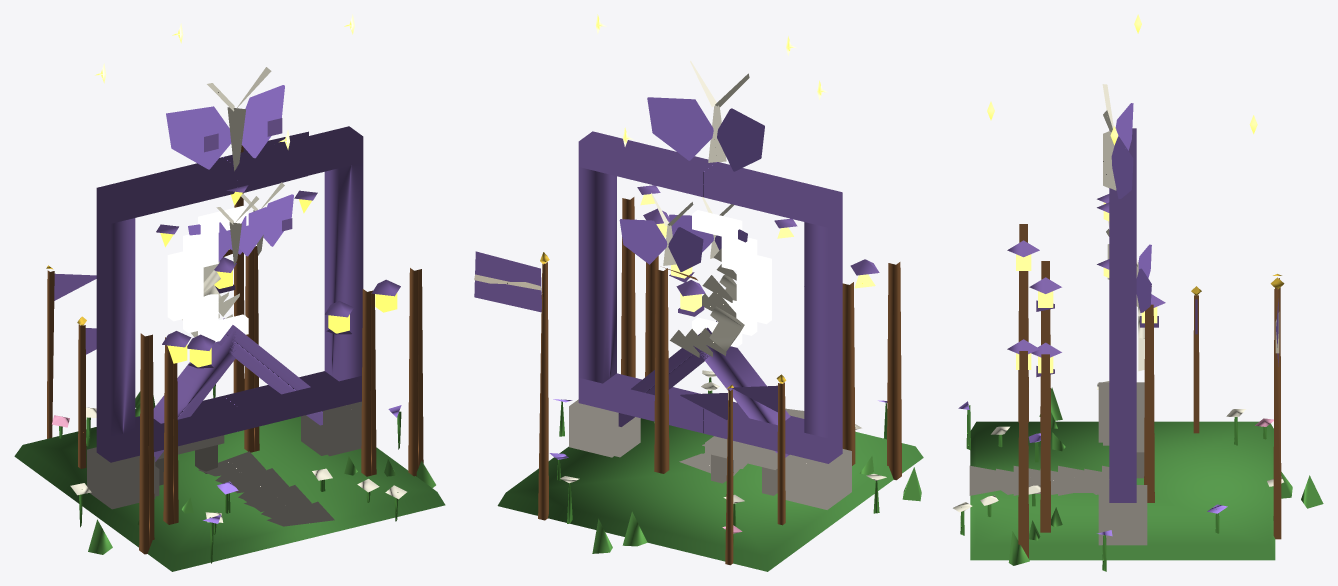
Rendered from moth-moon-garden-blocky_lod1.glb.
The picture shows the model from 3 angles, left to right: view 1: azimuth 30°, elevation 25°; view 2: azimuth 150°, elevation 25°; view 3: azimuth 270°, elevation 25°; orthographic projection. The views are drawn at different scales.
Parts seen in each view (by area): view 1: lv3, lv2, lv1; view 2: lv3, lv2, lv1; view 3: lv3, lv2, lv1.
Boxes of the visible parts, x1=… form: lv3: x1=14, y1=14, x2=445, y2=571; lv2: x1=77, y1=196, x2=396, y2=534; lv1: x1=155, y1=182, x2=357, y2=513; lv3: x1=474, y1=14, x2=923, y2=571; lv2: x1=549, y1=197, x2=873, y2=546; lv1: x1=619, y1=193, x2=777, y2=495; lv3: x1=953, y1=14, x2=1323, y2=571; lv2: x1=980, y1=221, x2=1292, y2=540; lv1: x1=1028, y1=244, x2=1165, y2=527.
Size of the model in its own units: 1.74 by 2.15 by 1.68.
